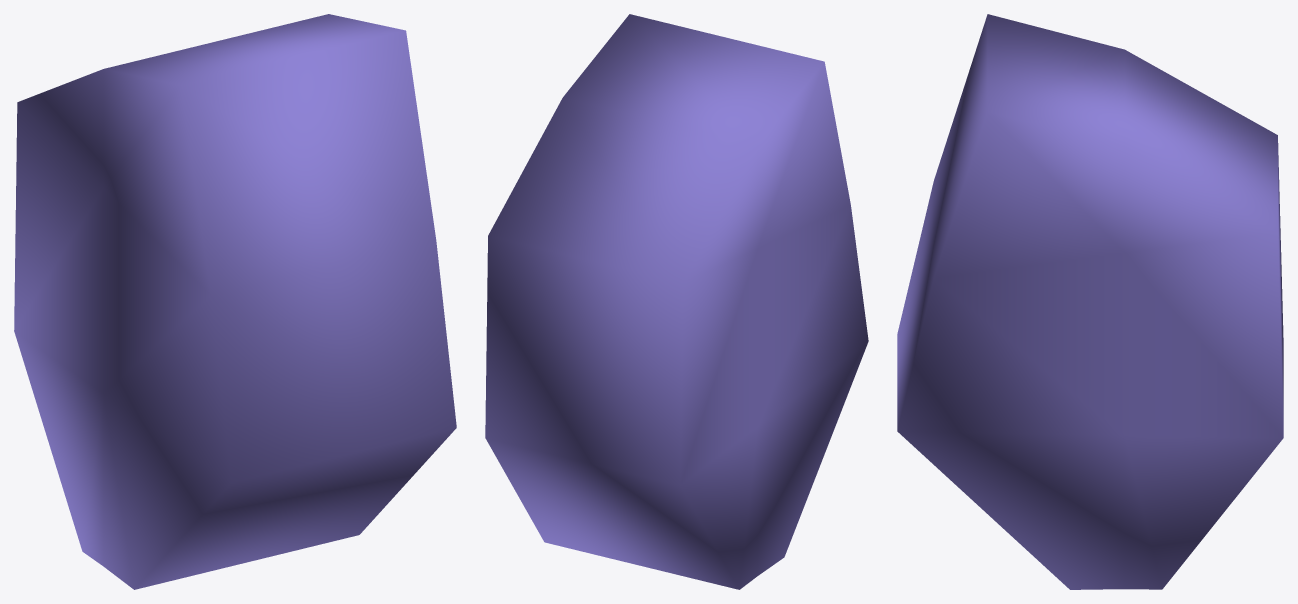
File: Cactus_Leafy_02_SPR_COL.fbx
3 views of the same model, side by side, from view 1: azimuth 30°, elevation 25°; view 2: azimuth 150°, elevation 25°; view 3: azimuth 270°, elevation 25° (orthographic). The views are drawn at different scales.
Visible parts, largest first — view 1: Cactus_Leafy_02_SPR_COL; view 2: Cactus_Leafy_02_SPR_COL; view 3: Cactus_Leafy_02_SPR_COL.
Boxes of the visible parts, <box> form: Cactus_Leafy_02_SPR_COL: <box>14,14,456,589</box>; Cactus_Leafy_02_SPR_COL: <box>485,14,868,589</box>; Cactus_Leafy_02_SPR_COL: <box>897,14,1283,589</box>.
Bounding box in the file's own units: 66.62 × 152 × 111.
